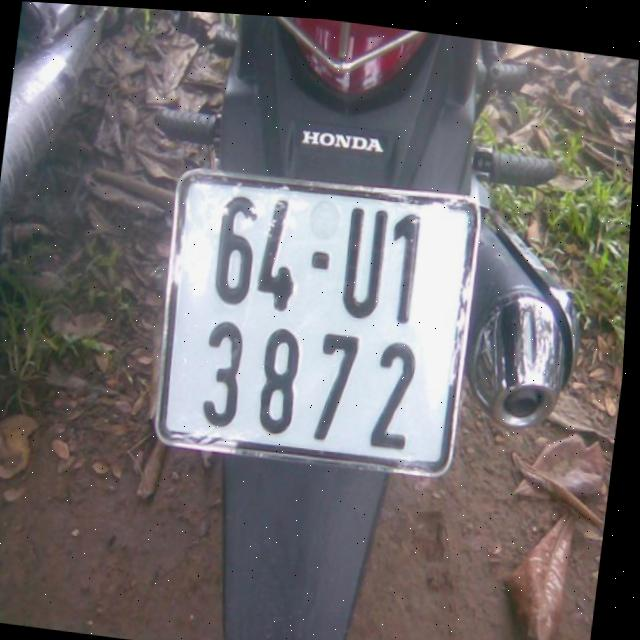motorcycle: (83, 7, 616, 640)
plate: (146, 163, 482, 478)
